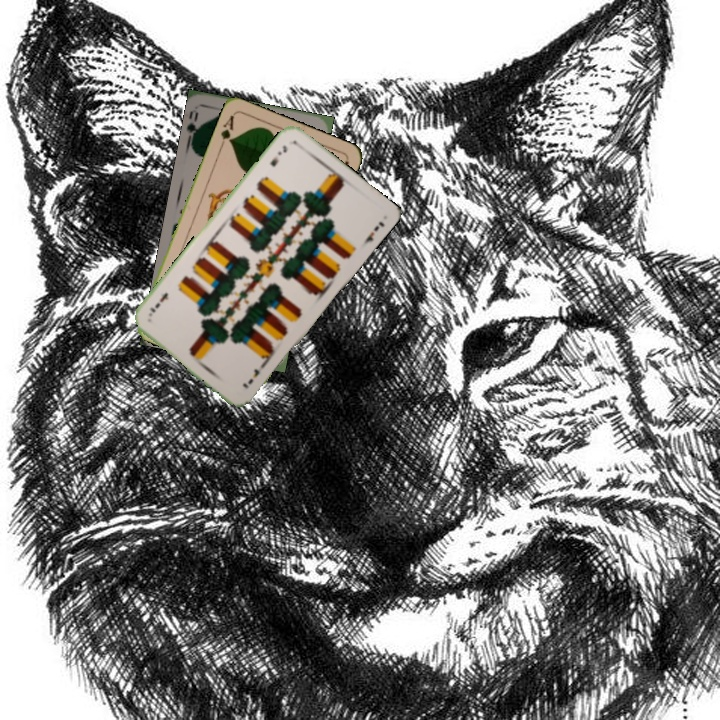E7: (266, 141, 290, 169), (238, 365, 262, 391)
GA: (216, 111, 237, 150)
GO: (183, 108, 205, 146)
